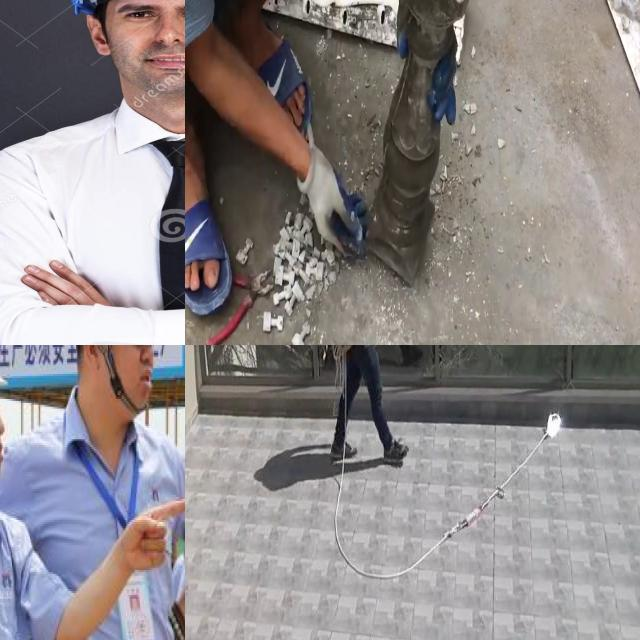Harness: (334, 413, 563, 580)
No_Ear-Protection: (87, 0, 185, 98), (74, 345, 155, 430)
Sandals: (185, 134, 231, 323)
hand_glove: (294, 130, 368, 260)
